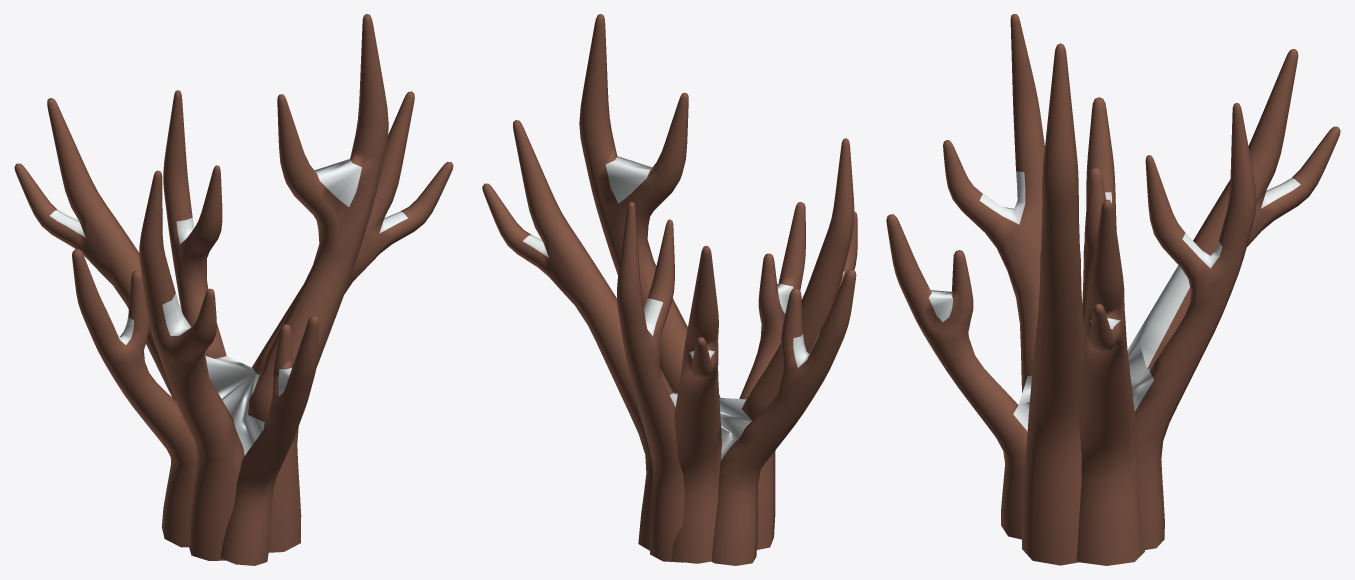
File: Tree Bush 1.fbx
The picture shows the model from 3 angles, left to right: view 1: azimuth 30°, elevation 25°; view 2: azimuth 150°, elevation 25°; view 3: azimuth 270°, elevation 25°; orthographic projection. The views are drawn at different scales.
Visible parts, largest first — view 1: Tree Bush 1; view 2: Tree Bush 1; view 3: Tree Bush 1.
Part boxes in pixels (x1,y1,x2,y2): Tree Bush 1: [14, 14, 453, 565]; Tree Bush 1: [482, 14, 857, 565]; Tree Bush 1: [886, 14, 1340, 565].
Bounding box in the file's own units: 263 × 332 × 243.
